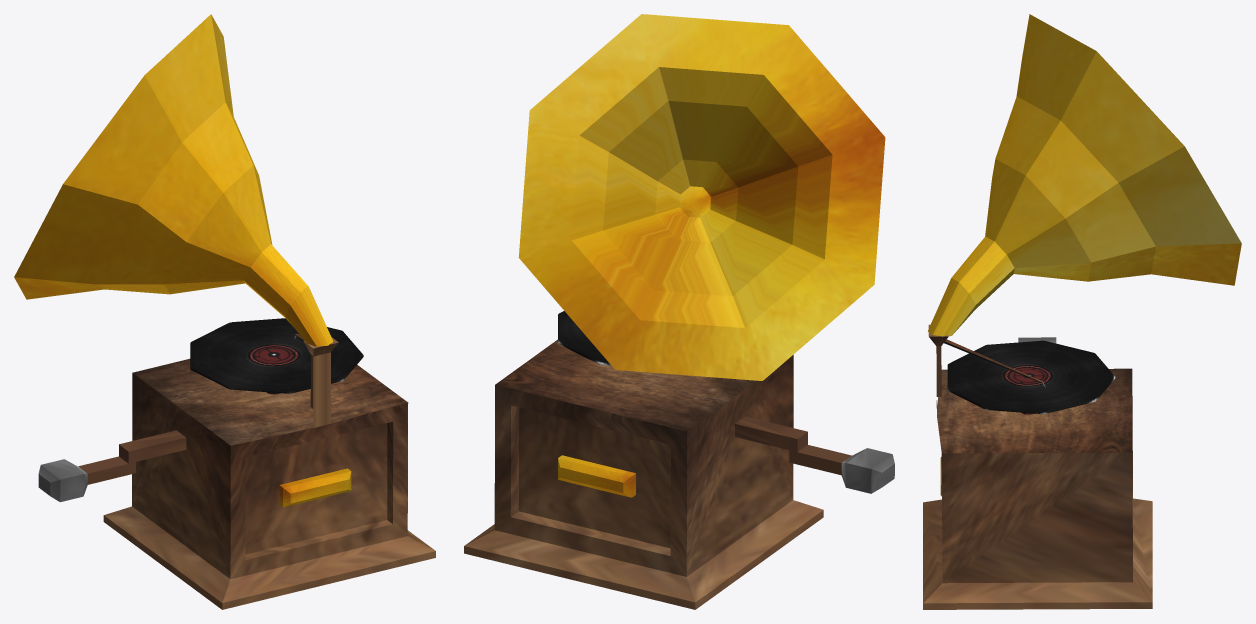
The model's file is toca_disco.fbx.
3 views of the same model, side by side, from view 1: azimuth 30°, elevation 25°; view 2: azimuth 150°, elevation 25°; view 3: azimuth 270°, elevation 25° (orthographic). The views are drawn at different scales.
Visible parts, largest first — view 1: toca_disco; view 2: toca_disco; view 3: toca_disco.
Part boxes in pixels (x1=…): toca_disco: x1=14, y1=14, x2=435, y2=609; toca_disco: x1=464, y1=14, x2=894, y2=609; toca_disco: x1=923, y1=14, x2=1241, y2=609.
Size of the model in its own units: 148 by 212 by 124.
